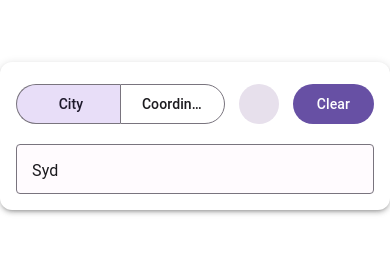
it: SearchBar Component › City Mode › renders the options dropdown once at least 2 characters are typed
Replace the text in the field named "Search city" with "S" at (195, 170), box [16,146,374,194]
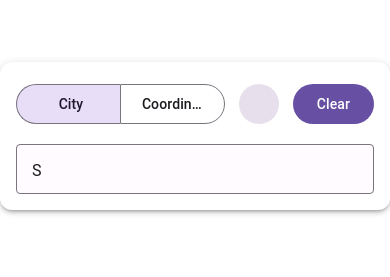
Check: the text "Sydney" is not shown
Replace the text in the field named "Search city" with "Syd" at (195, 170), box [16,146,374,194]
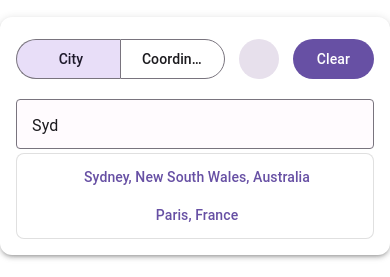
Check: the button "Sydney, New South Wales, Australia" is shown, box [17,158,373,196]
Check: the button "Paris, France" is shown, box [17,196,373,234]
